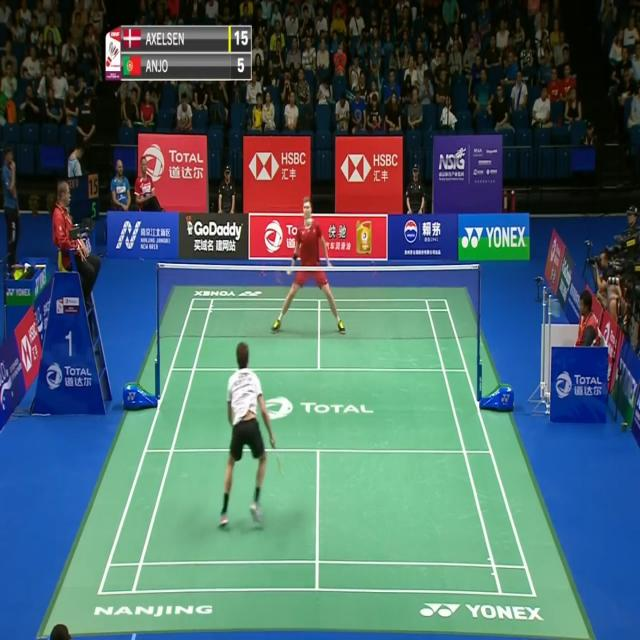Player1: (215, 337, 287, 534)
Player2: (271, 195, 345, 337)
